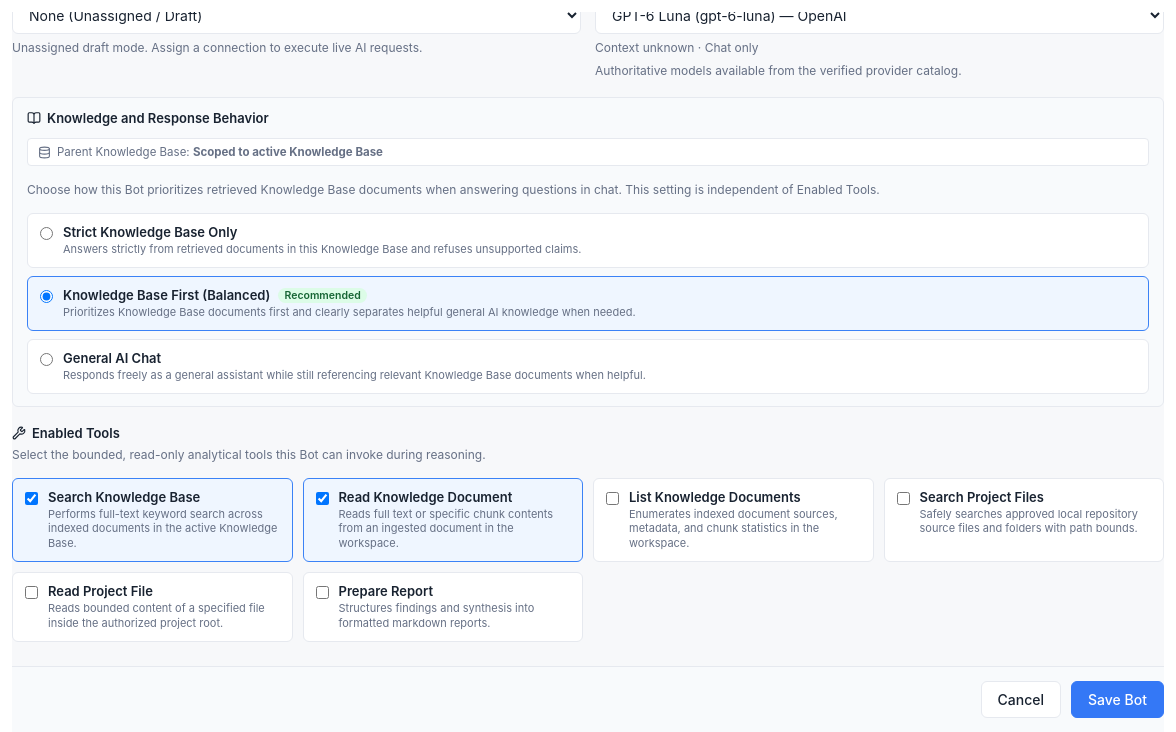
Test: Renderer: BotConfigurationForm (Phase 6 Step 6.5) › 3. validates maximum name length (100 characters)
The image size is (1176, 732).
(page scrolled)
Click the button with test id "bot-form-submit-btn" at (1118, 700), box [1071,681,1164,718]
(page scrolled)
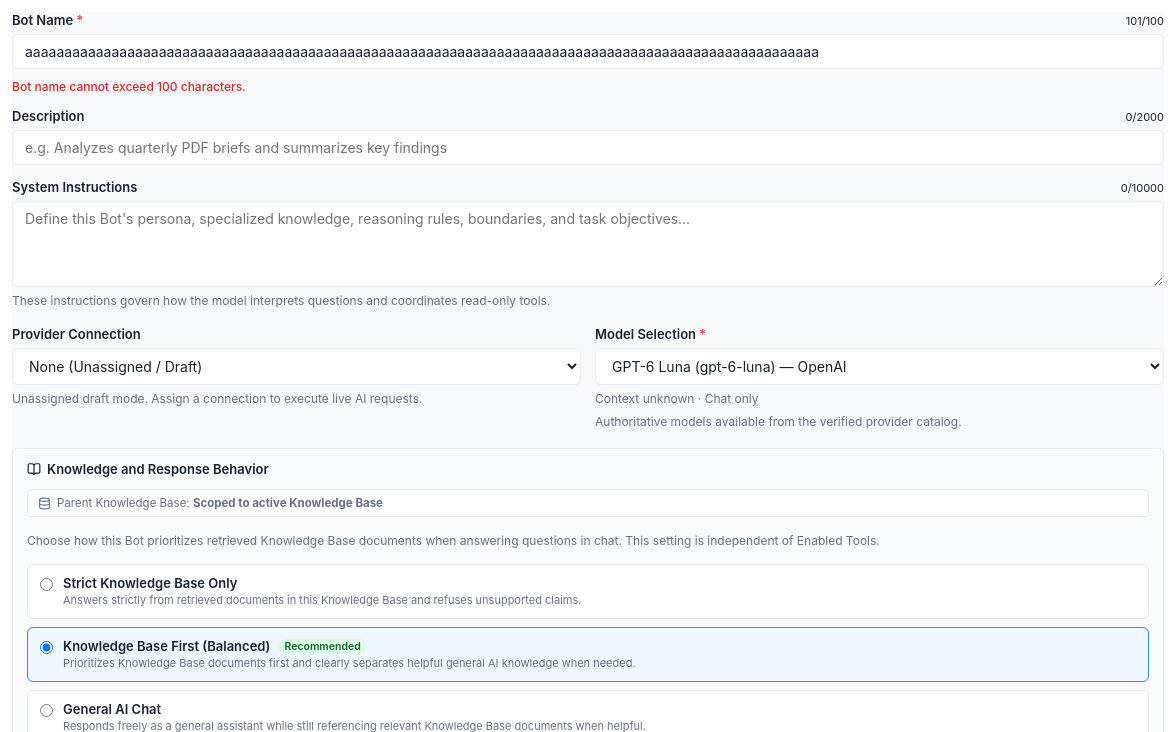
Expected: the text with test id "bot-name-error" reads "Bot name cannot exceed 100 characters.", [12,79,246,94]
